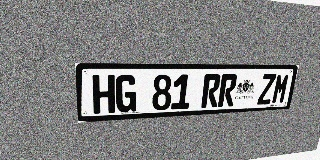1: (171, 74, 192, 110)
8: (152, 74, 173, 111)
G: (116, 75, 137, 113)
H: (92, 75, 115, 114)
M: (271, 74, 290, 104)
R: (201, 74, 221, 108), (218, 74, 238, 107)
Z: (257, 74, 277, 105)
